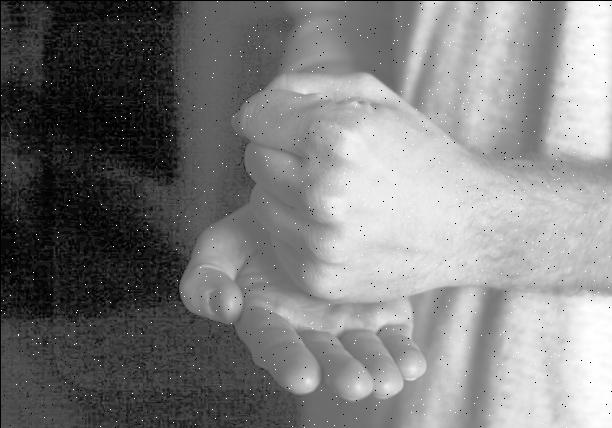Rock: (237, 61, 471, 305)
